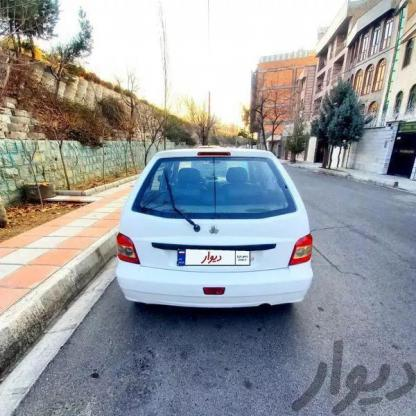Car: (107, 138, 325, 324)
